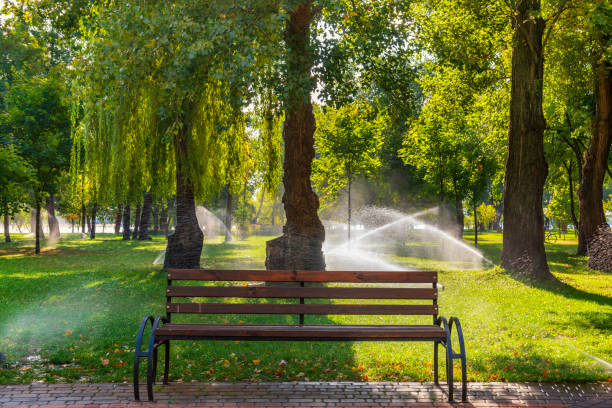bench: (128, 265, 472, 408)
